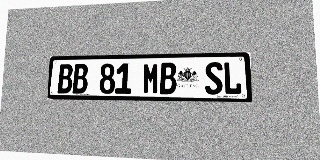1: (115, 63, 132, 94)
8: (99, 63, 115, 94)
B: (160, 63, 176, 94), (72, 64, 88, 94), (57, 64, 73, 93)
L: (223, 62, 242, 95)
M: (143, 63, 159, 94)
S: (205, 62, 223, 95)
